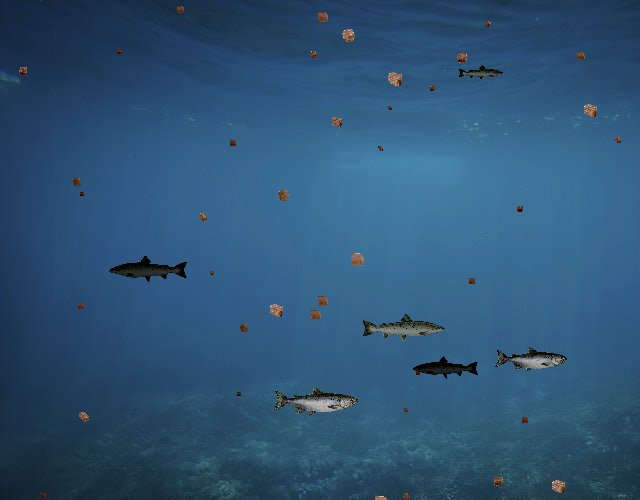Fish: (360, 312, 446, 343), (272, 386, 358, 417), (108, 255, 189, 284), (495, 346, 568, 372), (413, 356, 481, 380), (458, 64, 505, 81)
Pellet: (72, 406, 94, 428), (571, 47, 590, 66), (512, 202, 526, 216), (426, 83, 439, 96), (113, 45, 125, 57), (206, 268, 216, 278)
